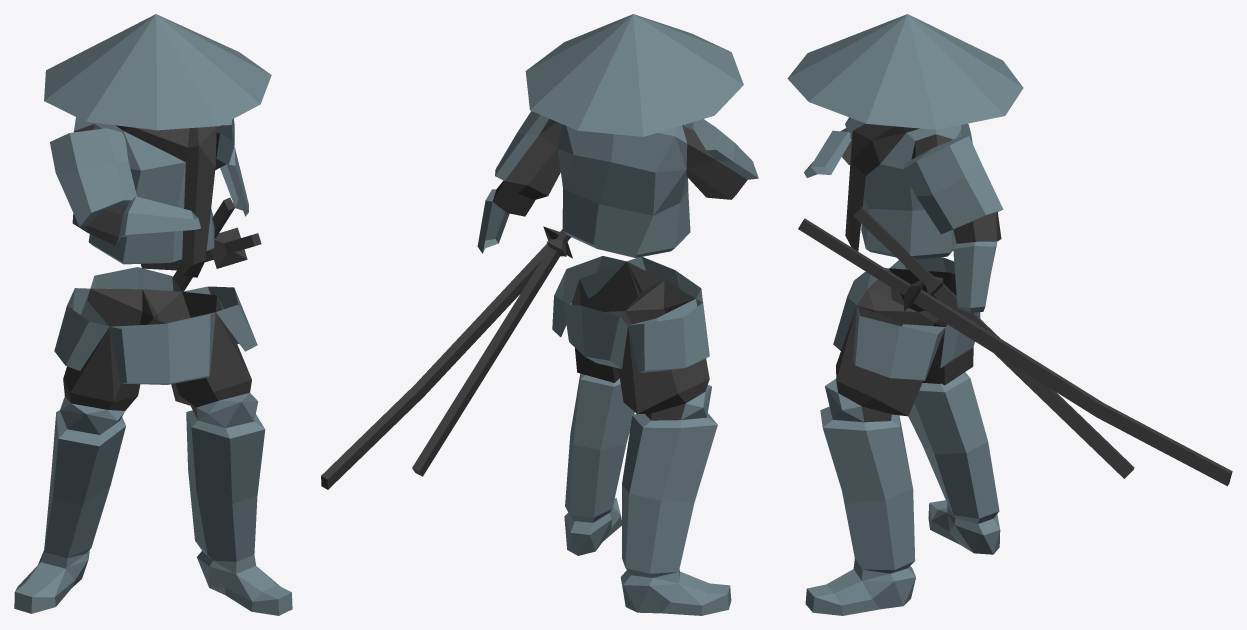
Rendered from Low-Poly_Samurai_C_Sucker_Punch.glb.
3 views of the same model, side by side, from view 1: azimuth 30°, elevation 25°; view 2: azimuth 150°, elevation 25°; view 3: azimuth 270°, elevation 25° (orthographic). The views are drawn at different scales.
Parts seen in each view (by area): view 1: Samurai.obj_Orange-Dark_0, Samurai.obj_Black_0; view 2: Samurai.obj_Orange-Dark_0, Samurai.obj_Black_0; view 3: Samurai.obj_Orange-Dark_0, Samurai.obj_Black_0.
Part boxes in pixels (left/top/right/bottom): Samurai.obj_Orange-Dark_0: left=14, top=14, right=292, bottom=615; Samurai.obj_Black_0: left=63, top=124, right=261, bottom=419; Samurai.obj_Orange-Dark_0: left=477, top=14, right=758, bottom=615; Samurai.obj_Black_0: left=321, top=119, right=747, bottom=489; Samurai.obj_Orange-Dark_0: left=787, top=14, right=1023, bottom=615; Samurai.obj_Black_0: left=798, top=123, right=1232, bottom=486.
Bounding box in the file's own units: 0.9728 × 1.92 × 1.38.
